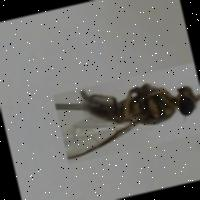Oriental-fruit-fly: (51, 61, 200, 163)
